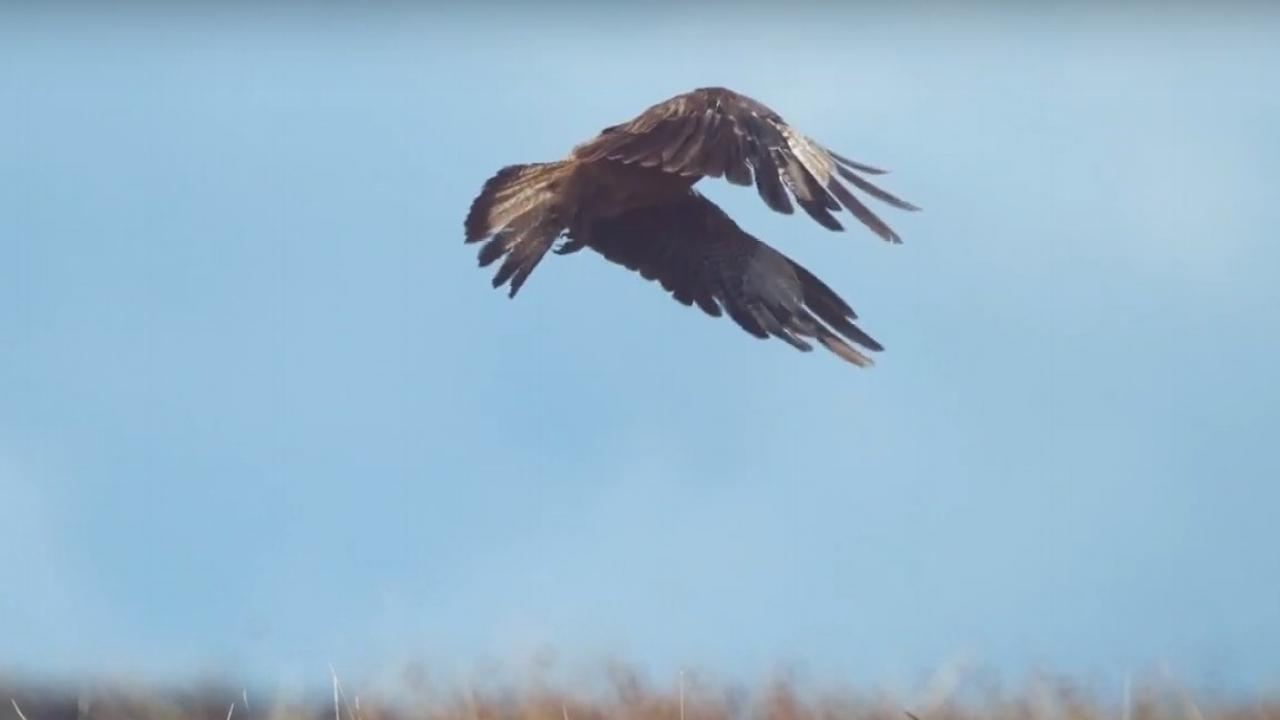Bird: (457, 79, 931, 374)
